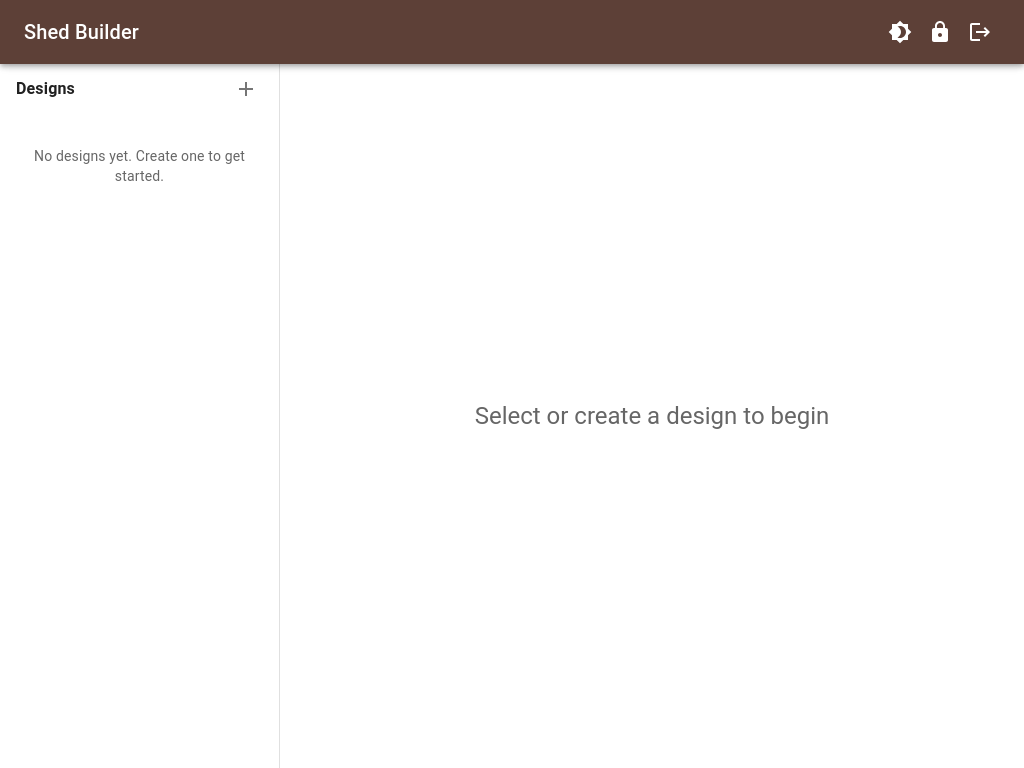
Test case: App › signs out and returns to register screen
Click the button named "Sign out".
click(980, 32)  # box [960, 12, 1000, 52]
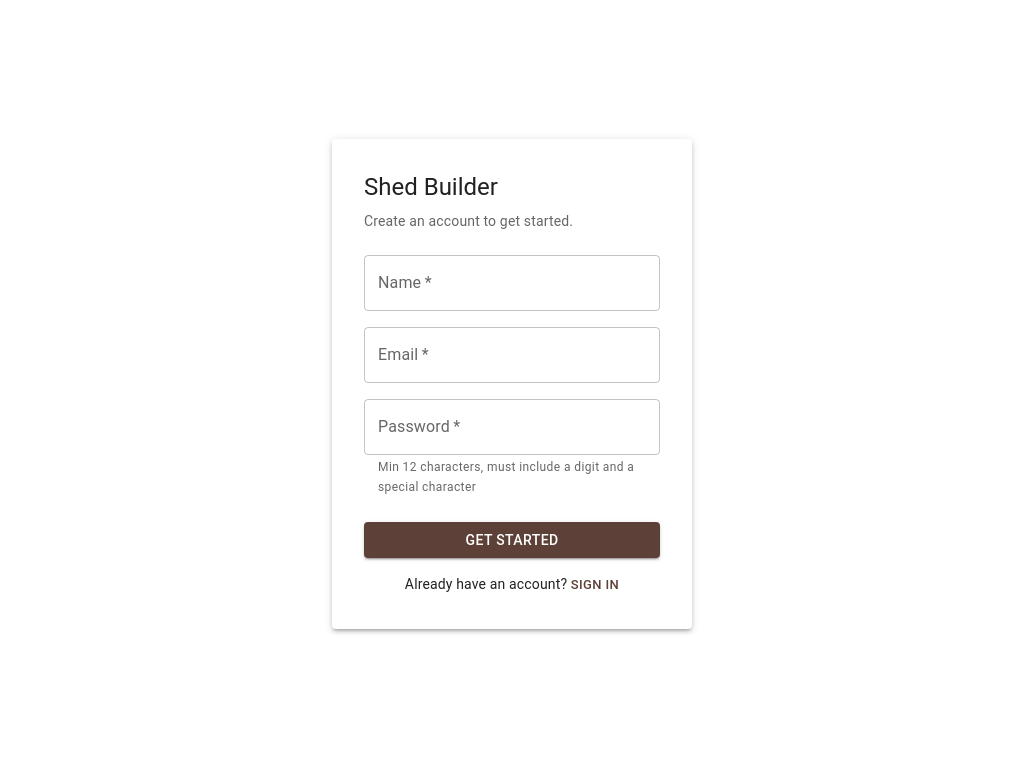
Check: the text "Create an account to get started." is shown, box [364, 213, 573, 229]
